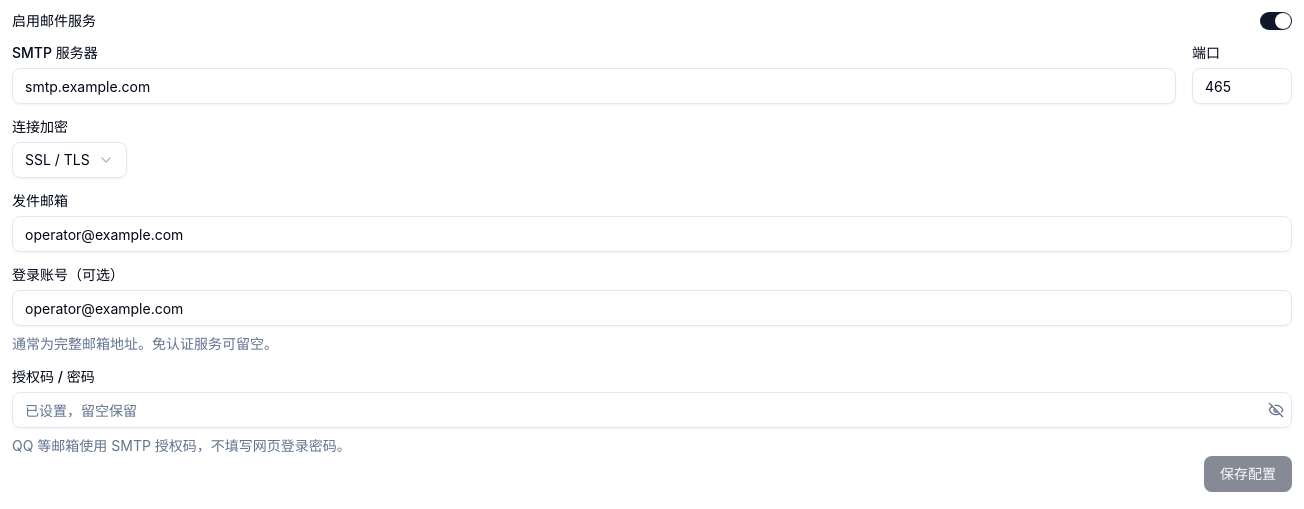
it: saves the secret without retaining it in the query cache or input
Type "secret-test-code" into the password field labelled "授权码 / 密码" at (652, 410), box [12, 392, 1292, 428]
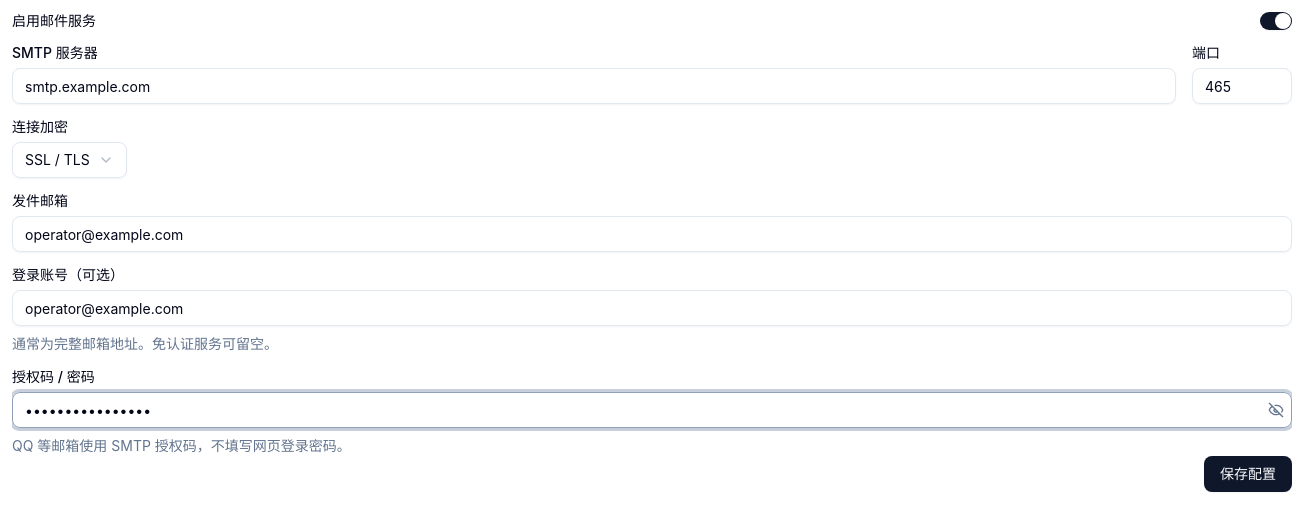
Click the button "保存配置" at (1248, 474), box [1204, 456, 1292, 492]
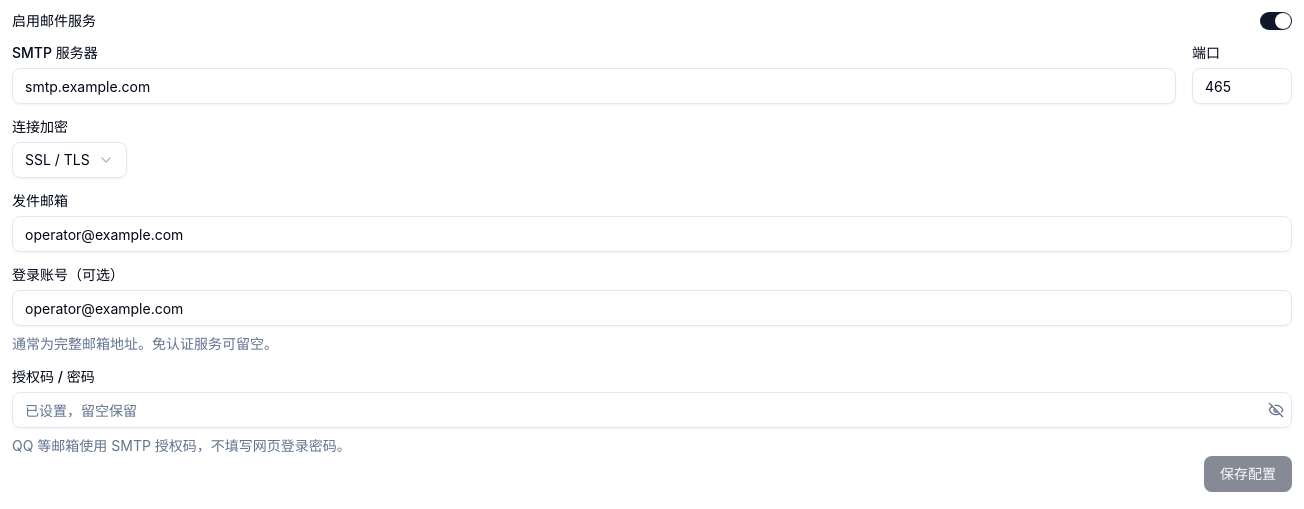
Now the button "保存配置" is disabled, box [1204, 456, 1292, 492]
